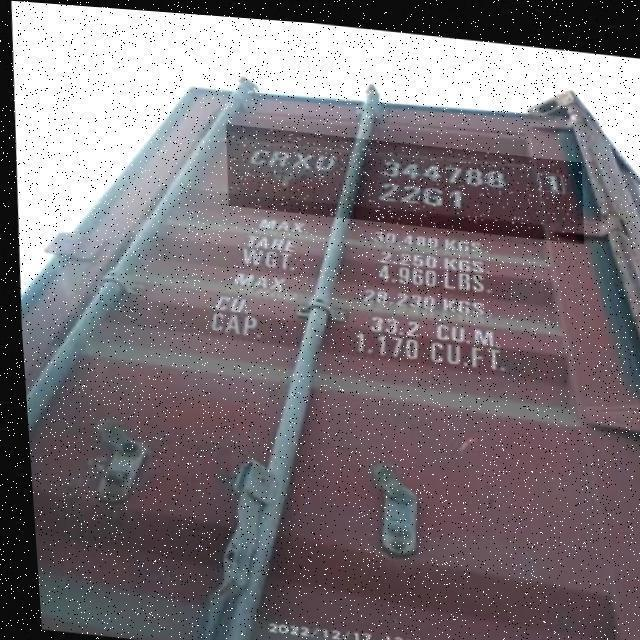ISO: (373, 178, 483, 220)
container_number: (247, 140, 566, 197)
